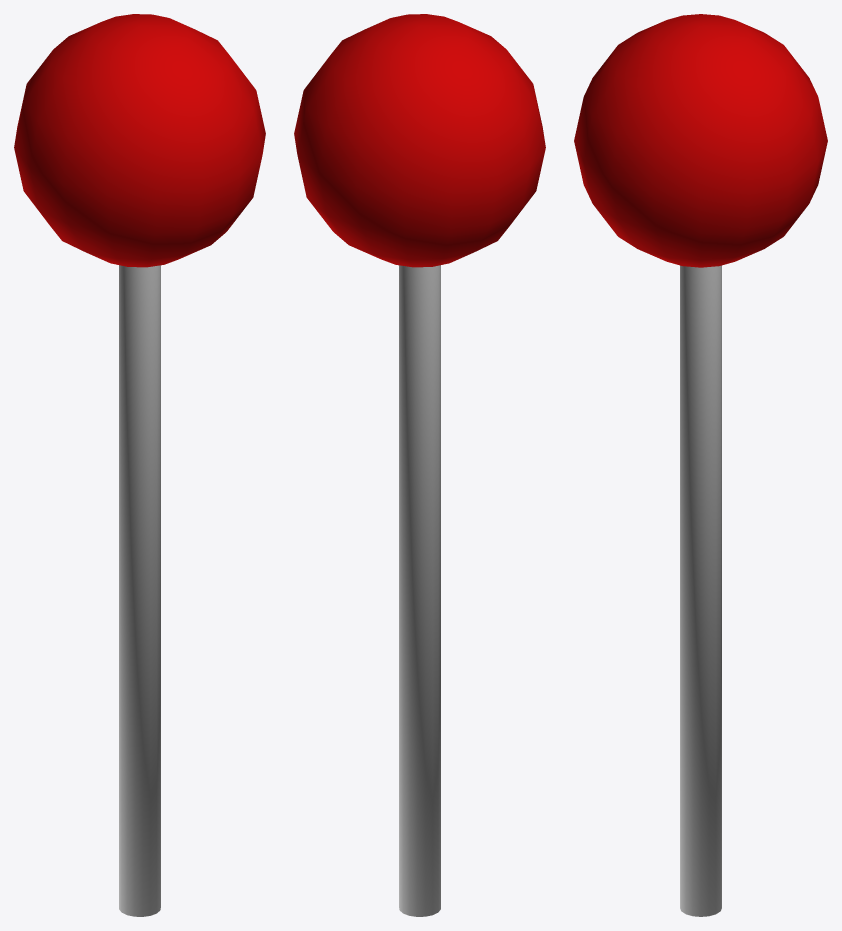
File: weapon.obj
3 views of the same model, side by side, from view 1: azimuth 30°, elevation 25°; view 2: azimuth 150°, elevation 25°; view 3: azimuth 270°, elevation 25° (orthographic).
Parts seen in each view (by area): view 1: 円柱; view 2: 円柱; view 3: 円柱.
Part boxes in pixels (x1,y1,x2,y2): 円柱: [14, 14, 265, 916]; 円柱: [294, 14, 545, 916]; 円柱: [574, 14, 827, 916].
Bounding box in the file's own units: 0.6 × 2.3 × 0.6.
